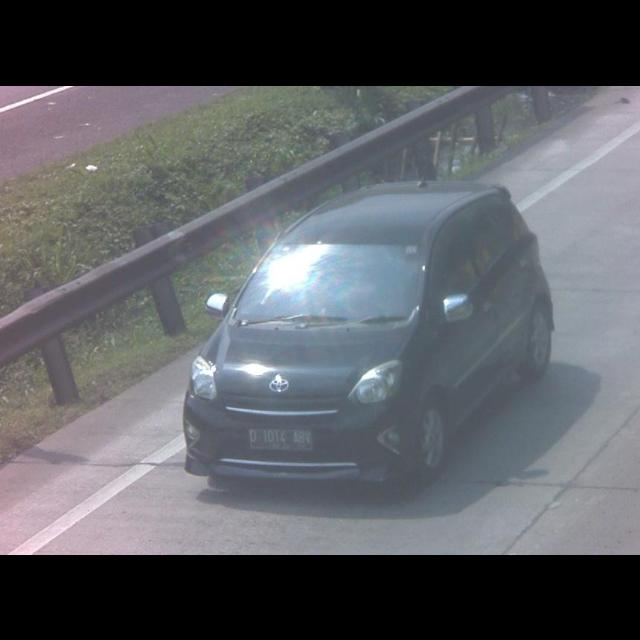plate: (246, 424, 314, 452)
